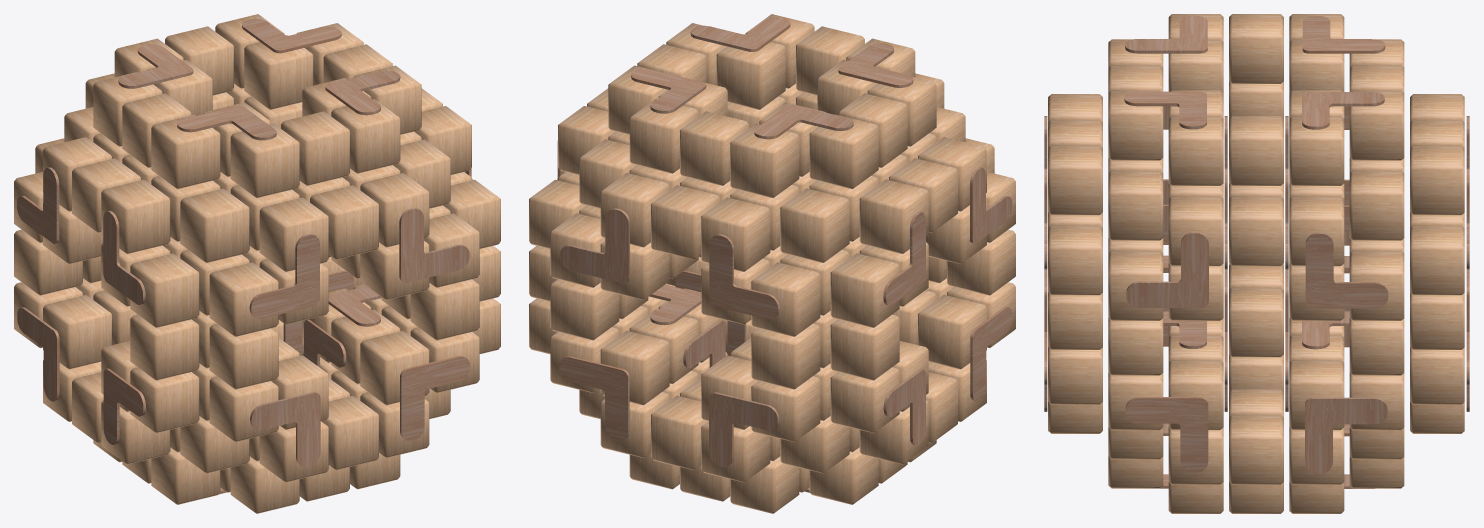
Rendered from level_79.fbx.
3 renders of one model, left to right at view 1: azimuth 30°, elevation 25°; view 2: azimuth 150°, elevation 25°; view 3: azimuth 270°, elevation 25°, orthographic. The views are drawn at different scales.
Visible parts, largest first — view 1: Cube.030, Cube.036, Cube.048, Cube.085, Cube.096, Cube.182, Cube.025, Cube.302, Cube.172, Cube.335, Cube.326, Cube.033 (+75 smaller); view 2: Cube.227, Cube.233, Cube.183, Cube.245, Cube.194, Cube.084, Cube.222, Cube.253, Cube.286, Cube.074, Cube.277, Cube.230 (+75 smaller); view 3: Cube.032, Cube.229, Cube.142, Cube.324, Cube.122, Cube.275, Cube.116, Cube.288, Cube.337, Cube.134, Cube.136, Cube.087 (+69 smaller).
Part boxes in pixels (x1,y1,x2,y2): Cube.030: [180, 188, 249, 262]; Cube.036: [230, 123, 299, 197]; Cube.048: [130, 253, 199, 327]; Cube.085: [151, 114, 220, 189]; Cube.096: [101, 179, 170, 253]; Cube.182: [244, 35, 313, 109]; Cube.025: [130, 314, 199, 380]; Cube.302: [209, 323, 278, 389]; Cube.172: [43, 295, 111, 369]; Cube.335: [209, 262, 278, 336]; Cube.326: [259, 197, 328, 271]; Cube.033: [281, 111, 349, 185]; Cube.227: [780, 188, 849, 262]; Cube.233: [730, 123, 799, 197]; Cube.183: [809, 114, 878, 189]; Cube.245: [830, 253, 899, 327]; Cube.194: [859, 179, 928, 253]; Cube.084: [716, 42, 785, 109]; Cube.222: [830, 314, 899, 380]; Cube.253: [751, 323, 820, 389]; Cube.286: [751, 262, 820, 336]; Cube.074: [918, 295, 986, 369]; Cube.277: [701, 197, 770, 271]; Cube.230: [680, 111, 748, 185]; Cube.032: [1108, 170, 1163, 240]; Cube.229: [1349, 170, 1404, 240]; Cube.142: [1229, 196, 1283, 266]; Cube.324: [1048, 145, 1102, 215]; Cube.122: [1229, 414, 1283, 484]; Cube.275: [1410, 145, 1464, 215]; Cube.116: [1229, 287, 1283, 357]; Cube.288: [1410, 225, 1464, 295]; Cube.337: [1048, 225, 1102, 295]; Cube.134: [1229, 14, 1283, 83]; Cube.136: [1229, 116, 1283, 185]; Cube.087: [1168, 116, 1223, 185].
Bounding box in the file's own units: 15.53 × 15.52 × 15.53.
